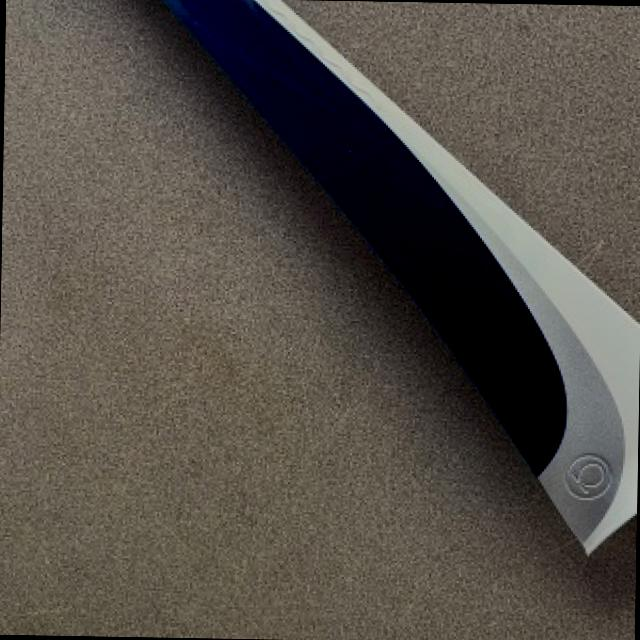healthy: (0, 0, 576, 634), (166, 0, 638, 549)
